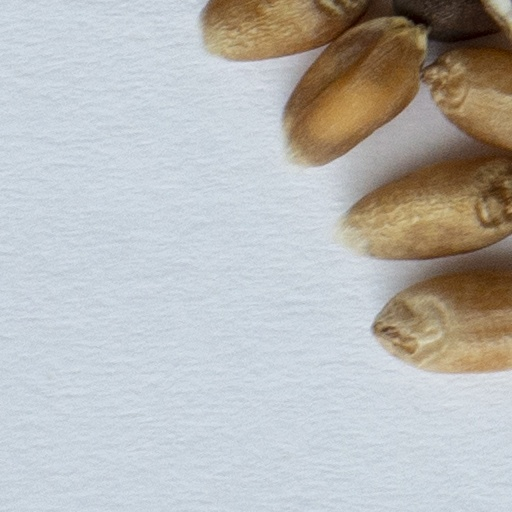Convolvulus-poly: (394, 0, 498, 40)
